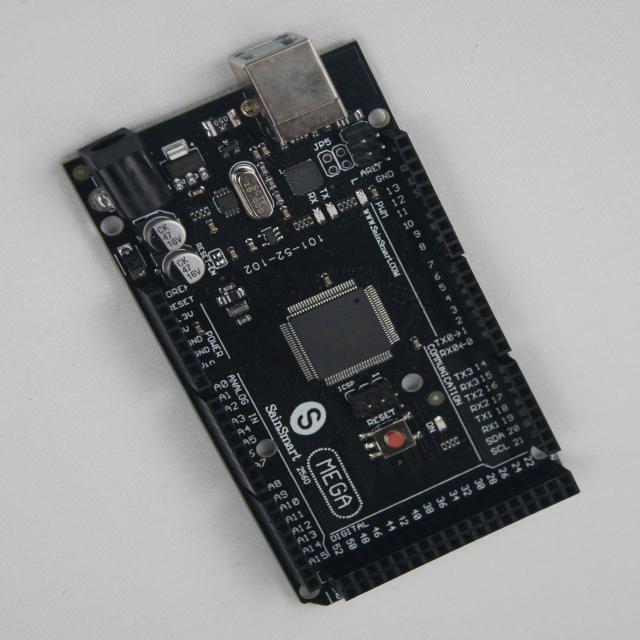Arduino Mega 2560 -Black-: (66, 34, 579, 605)
